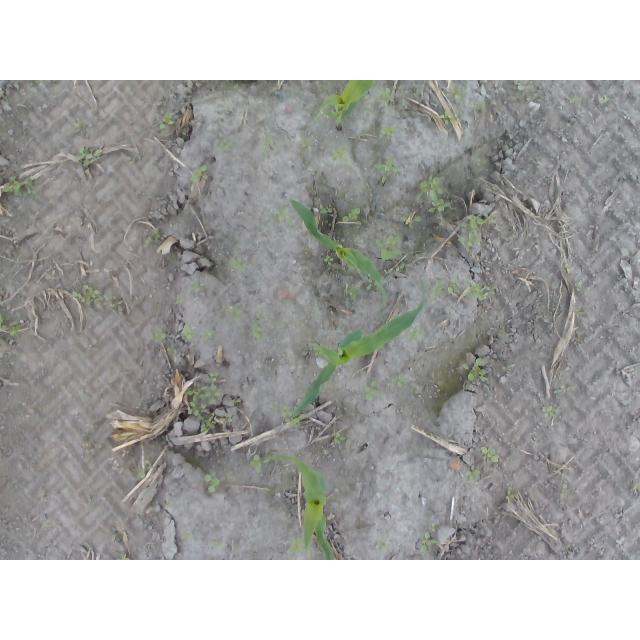Maize: (291, 276, 427, 419), (289, 198, 390, 310), (264, 453, 345, 560), (314, 81, 376, 130)
Weeds: (188, 373, 234, 433), (459, 212, 498, 253), (74, 286, 123, 311), (422, 174, 450, 215), (376, 235, 405, 264), (461, 359, 490, 381), (271, 401, 298, 424), (3, 176, 33, 196), (377, 161, 403, 184), (464, 279, 490, 302), (77, 147, 104, 164), (429, 282, 455, 299), (362, 382, 381, 402), (250, 454, 267, 474), (222, 306, 246, 320), (481, 446, 498, 463), (275, 209, 294, 224), (344, 209, 363, 224), (448, 85, 468, 99), (421, 534, 435, 554), (540, 405, 560, 419), (333, 146, 349, 163), (232, 256, 249, 272), (205, 475, 219, 494), (400, 214, 420, 227), (192, 166, 207, 183), (189, 279, 207, 293), (161, 113, 174, 131), (394, 376, 412, 388), (141, 461, 152, 480), (181, 323, 192, 342), (380, 125, 396, 138), (251, 324, 263, 341), (442, 113, 455, 128), (348, 281, 360, 297), (301, 136, 314, 149), (334, 433, 346, 447), (262, 132, 271, 150), (383, 87, 394, 101), (319, 204, 333, 214), (149, 329, 160, 339), (324, 256, 332, 265)
